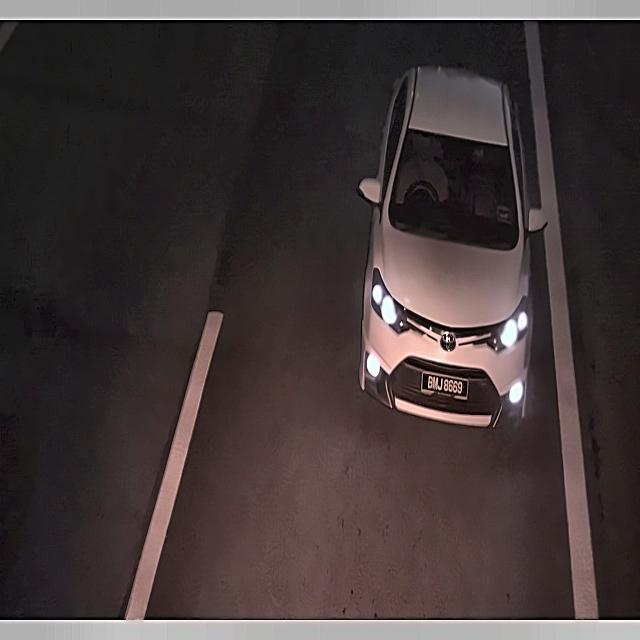car: (419, 364, 472, 405)
